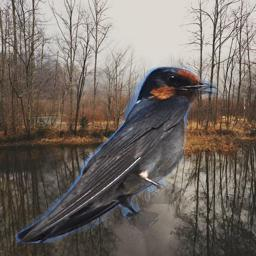Swallow: (15, 66, 217, 243)
